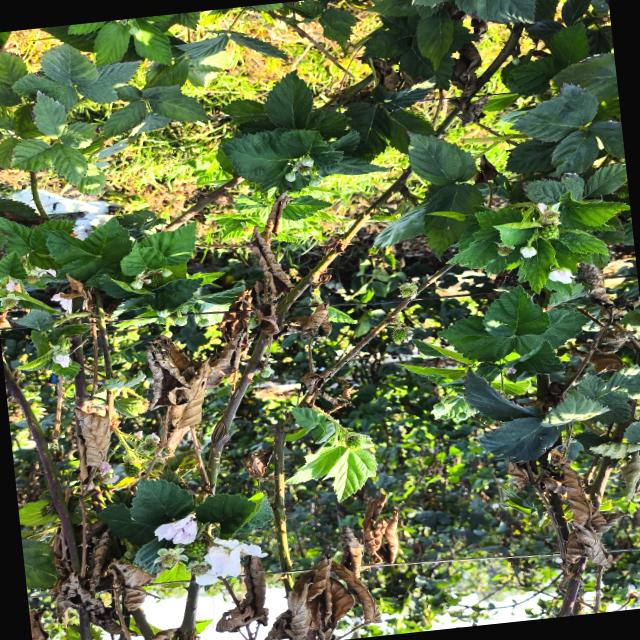boton: (520, 245, 537, 258), (300, 155, 314, 166), (284, 171, 296, 182)
flor: (195, 538, 266, 584), (154, 514, 197, 544), (548, 268, 572, 284)
